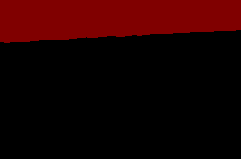Sky: (1, 1, 240, 43)
